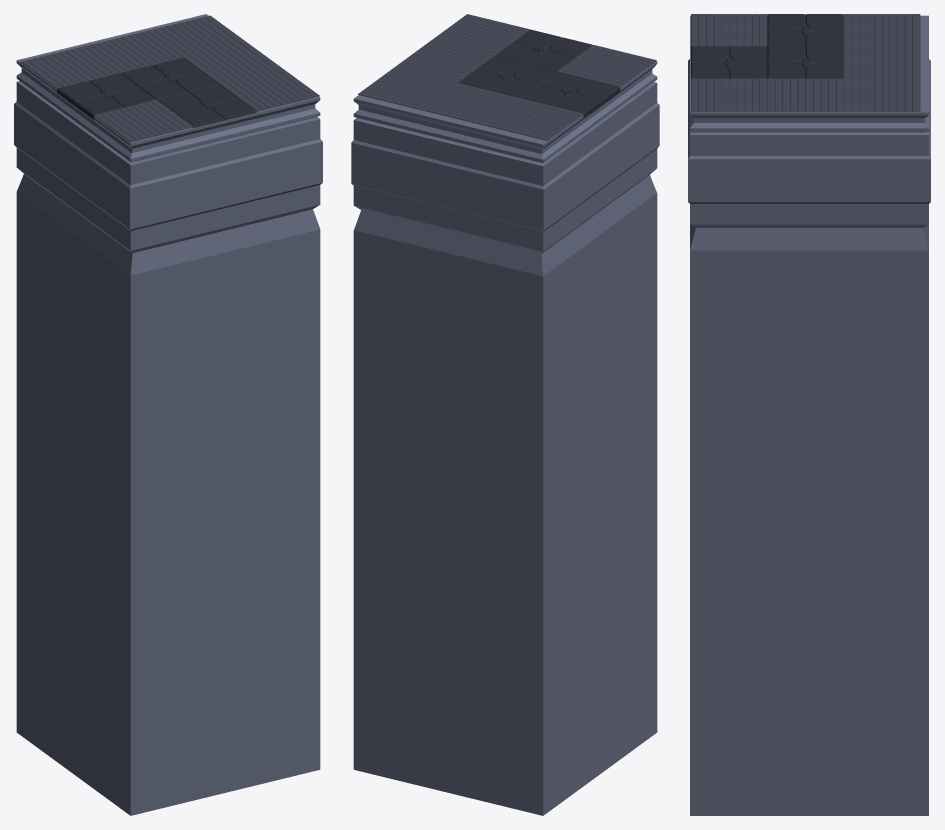
Rendered from block_c.fbx.
3 renders of one model, left to right at view 1: azimuth 30°, elevation 25°; view 2: azimuth 150°, elevation 25°; view 3: azimuth 270°, elevation 25°, orthographic. The views are drawn at different scales.
Visible parts, largest first — view 1: 03, Cube.144, Cube.114, Cube.121, Cube.113, Cube.142, Cube.141, Cube.143, Cube.140, Cube.139; view 2: 03, Cube.144, Cube.142, Cube.143, Cube.140, Cube.121, Cube.113, Cube.141, Cube.139, Cube.114; view 3: 03, Cube.113, Cube.140, Cube.141, Cube.121, Cube.144, Cube.143, Cube.142, Cube.114, Cube.139.
Part boxes in pixels (x1,y1,x2,y2): 03: (14, 14, 322, 815); Cube.144: (57, 73, 155, 119); Cube.114: (157, 84, 256, 127); Cube.121: (94, 100, 193, 142); Cube.113: (220, 69, 319, 111); Cube.142: (20, 46, 119, 88); Cube.141: (184, 42, 282, 84); Cube.143: (84, 31, 183, 73); Cube.140: (147, 15, 246, 57); Cube.139: (120, 58, 219, 99); 03: (351, 61, 659, 815); Cube.144: (522, 71, 620, 117); Cube.142: (484, 98, 583, 140); Cube.143: (421, 83, 520, 125); Cube.140: (358, 67, 456, 109); Cube.121: (557, 45, 656, 87); Cube.113: (431, 14, 530, 56); Cube.141: (394, 41, 493, 82); Cube.139: (458, 56, 556, 98); Cube.114: (495, 29, 592, 71); 03: (688, 15, 930, 815); Cube.113: (691, 78, 767, 111); Cube.140: (844, 78, 920, 111); Cube.141: (767, 78, 843, 111); Cube.121: (691, 14, 767, 46); Cube.144: (767, 14, 843, 46); Cube.143: (844, 46, 920, 78); Cube.142: (844, 14, 920, 46); Cube.114: (691, 46, 767, 78); Cube.139: (767, 46, 843, 78).
Size of the model in its own units: 609 by 2040 by 635.
